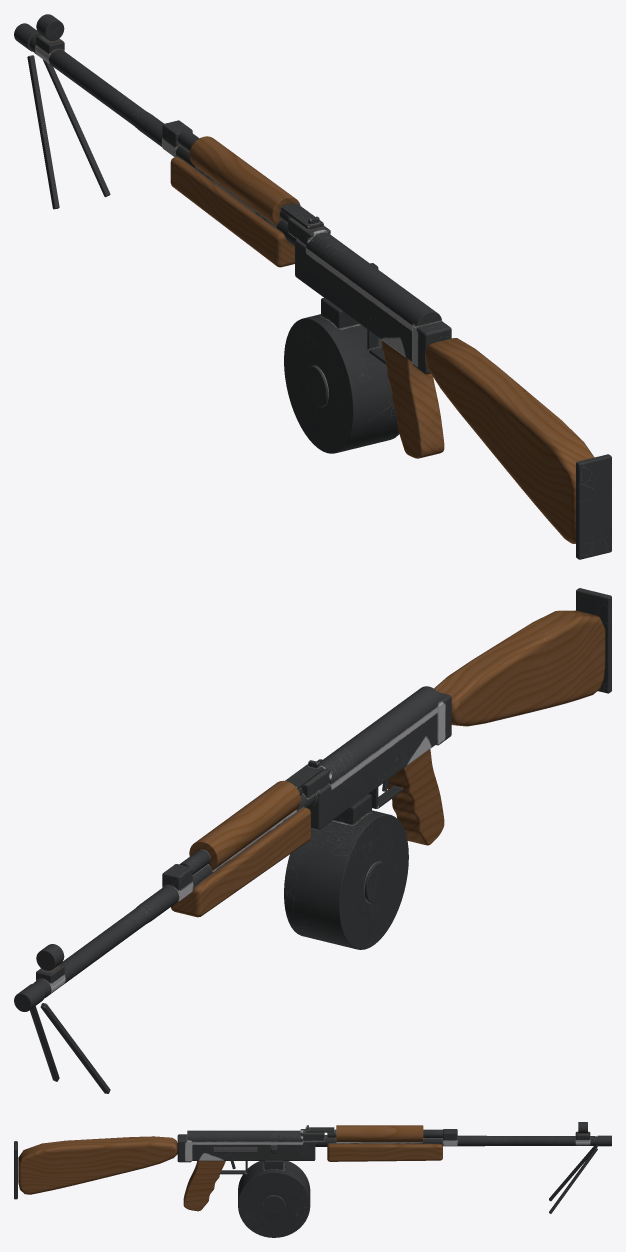
File: rpk.gltf
The picture shows the model from 3 angles, top to bottom: view 1: azimuth 30°, elevation 25°; view 2: azimuth 150°, elevation 25°; view 3: azimuth 270°, elevation 25°; orthographic projection. The views are drawn at different scales.
Visible parts, largest first — view 1: Frame, Stock, Mag_body; view 2: Frame, Mag_body, Stock; view 3: Frame, Stock, Mag_body.
Boxes of the visible parts, x1,y1,x2,y2 form: Frame: (14, 14, 611, 559); Stock: (425, 338, 594, 543); Mag_body: (284, 297, 399, 453); Frame: (14, 588, 611, 1093); Mag_body: (284, 794, 408, 949); Stock: (434, 610, 605, 726); Frame: (14, 1122, 611, 1213); Stock: (18, 1136, 177, 1194); Mag_body: (238, 1160, 310, 1237).
Bounding box in the file's own units: 0.077 × 0.2478 × 1.24.
Materials: 4 (4 with a texture image).
